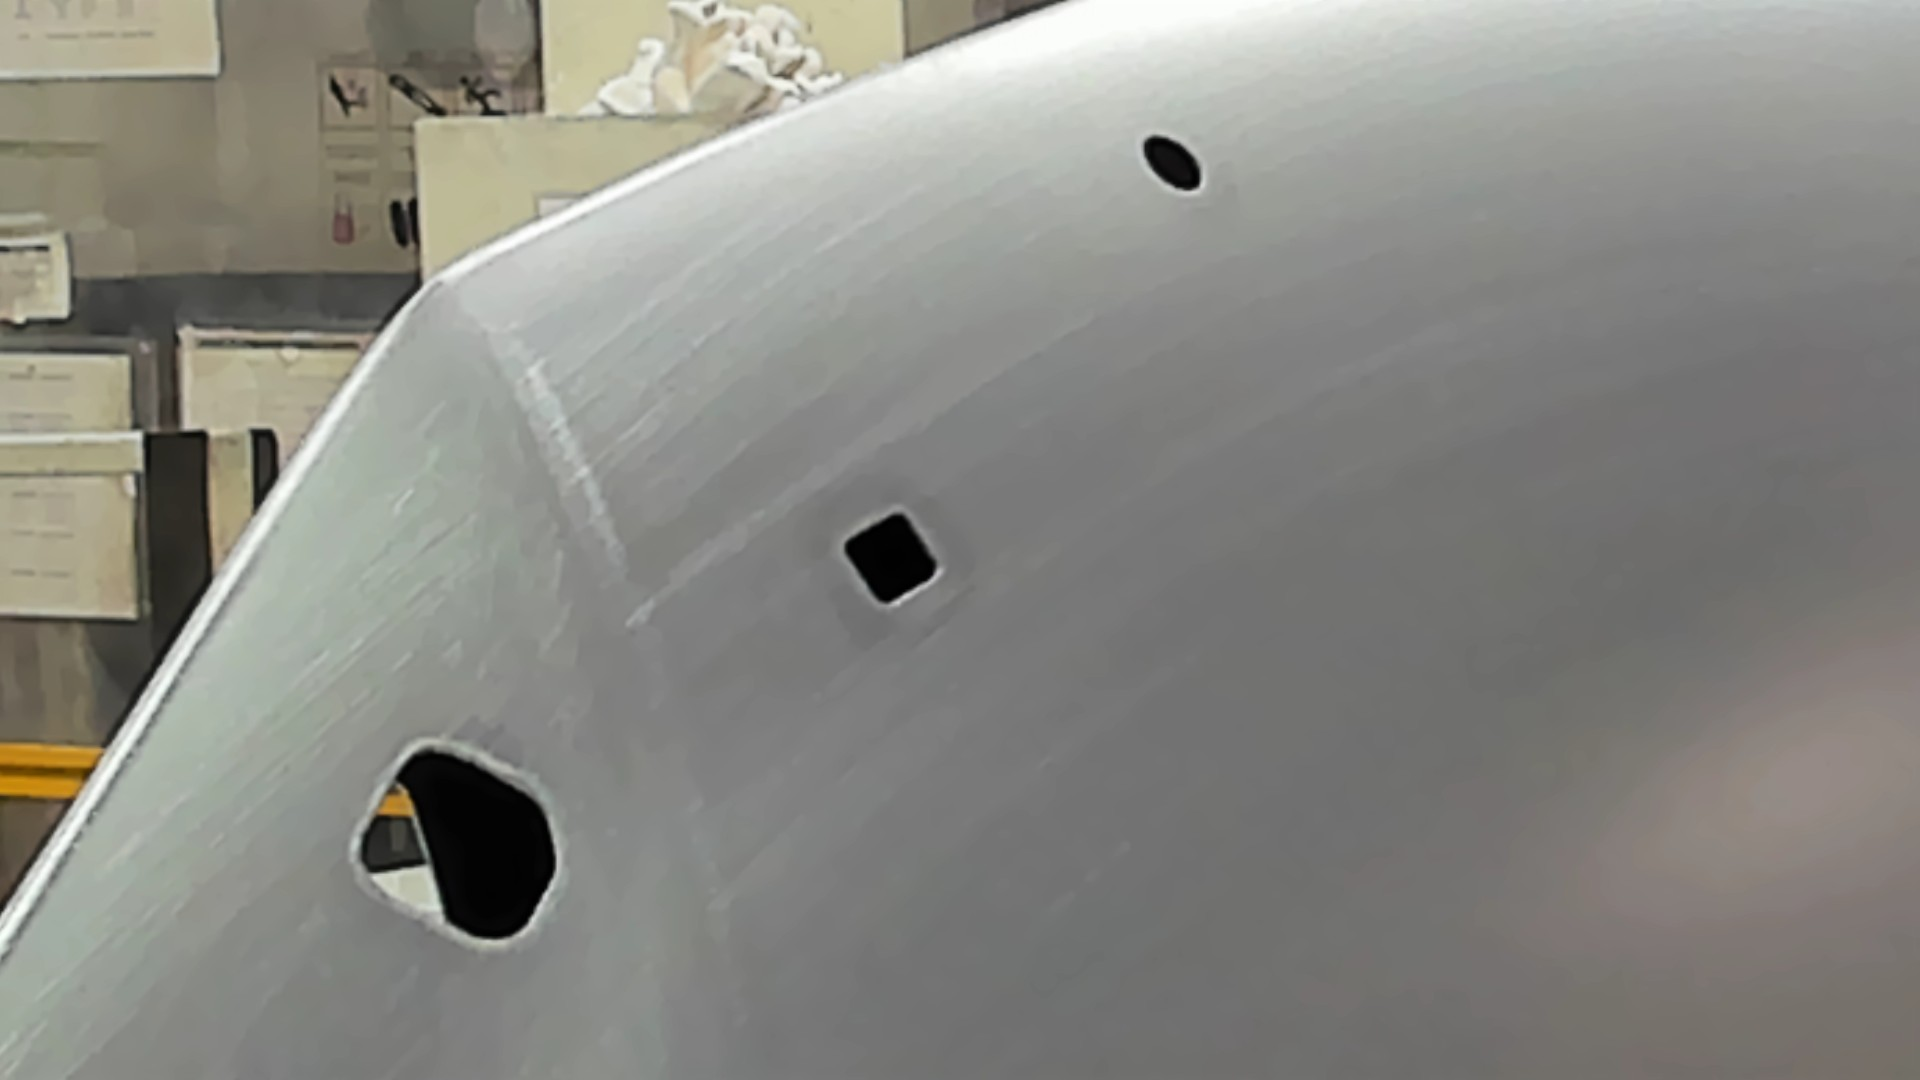capo: (951, 196, 1920, 1080)
chico: (1134, 129, 1207, 200)
grande: (345, 733, 570, 953)
mediano: (829, 496, 952, 615)
